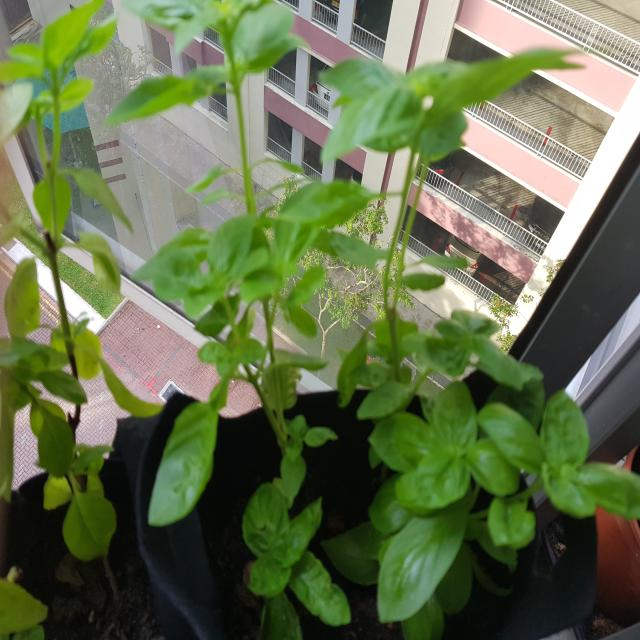Sweet Basil: (324, 25, 588, 622), (110, 0, 357, 629), (2, 0, 144, 581)
